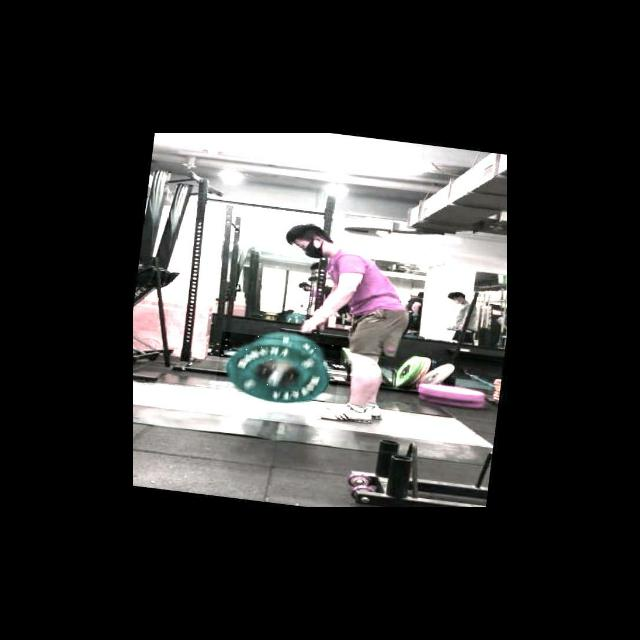barbell: (214, 331, 341, 411)
